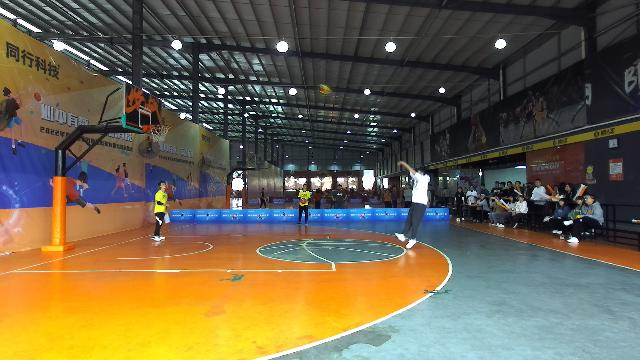ball: (318, 83, 328, 93), (300, 198, 306, 202)
basket: (150, 124, 170, 142)
